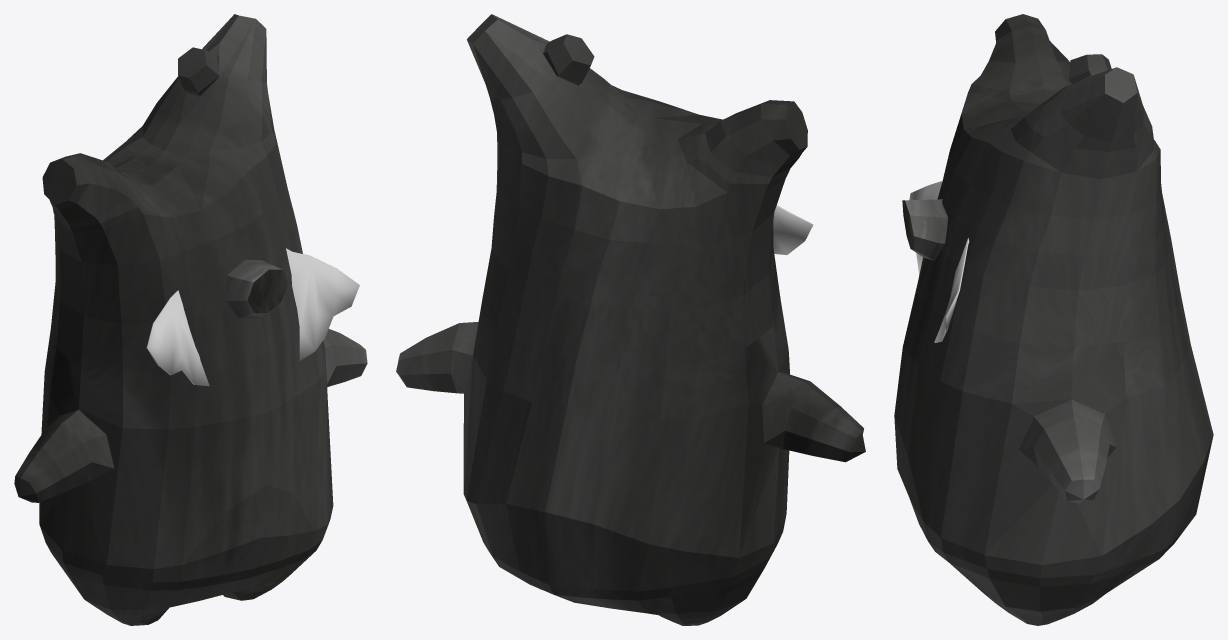
The model's file is frame_0029.obj.
The picture shows the model from 3 angles, left to right: view 1: azimuth 30°, elevation 25°; view 2: azimuth 150°, elevation 25°; view 3: azimuth 270°, elevation 25°; orthographic projection. The views are drawn at different scales.
Visible parts, largest first — view 1: korok, leaf, nose; view 2: korok, leaf; view 3: korok, nose, leaf.
Part boxes in pixels (<box>): korok: <box>14,14,367,625</box>; leaf: <box>146,248,359,386</box>; nose: <box>224,259,288,318</box>; korok: <box>396,14,865,625</box>; leaf: <box>773,205,813,254</box>; korok: <box>894,14,1213,625</box>; nose: <box>902,199,948,260</box>; leaf: <box>909,181,969,342</box>.
Size of the model in its own units: 1.7 by 2.3 by 1.16.
